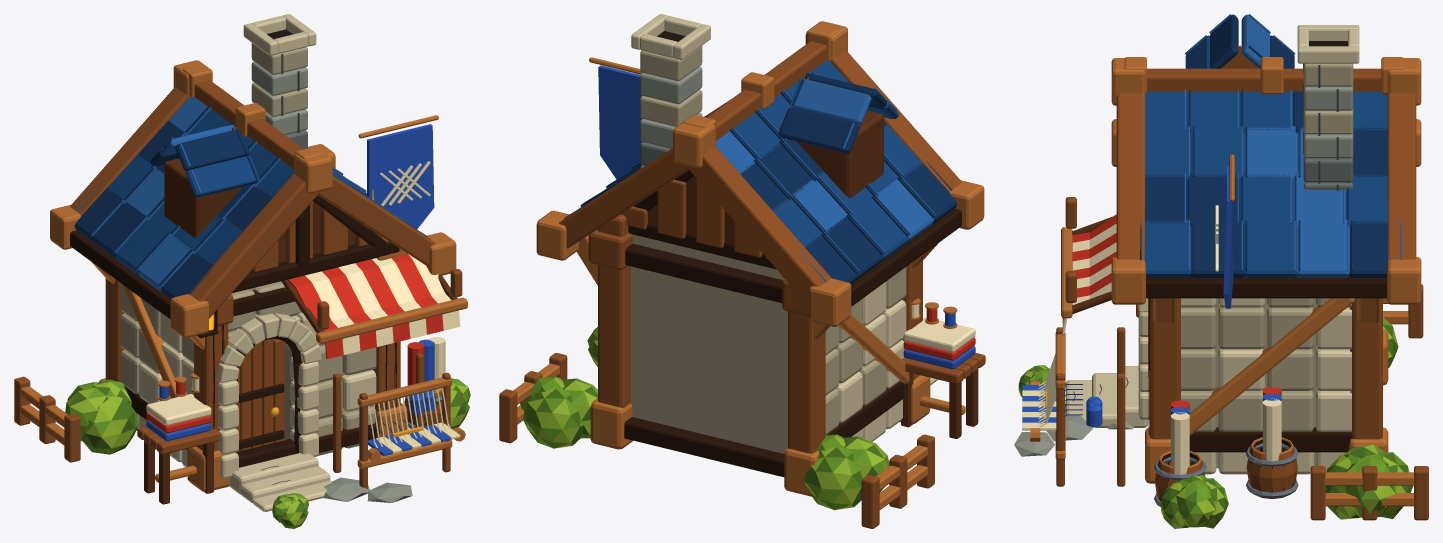
The model's file is weaver.glb.
The picture shows the model from 3 angles, left to right: view 1: azimuth 30°, elevation 25°; view 2: azimuth 150°, elevation 25°; view 3: azimuth 270°, elevation 25°; orthographic projection. The views are drawn at different scales.
Parts seen in each view (by area): view 1: Carved roof verge, Cloth heraldic banner, Carved roof verge.002, Dormer body, Carved roof verge.001, Gable tie beam, Ridge timber, Leaf cluster.004, Roof eave, Corner upright, Soft edged blue roof tile.042, Awning front beam (+85 smaller); view 2: Cottage walls, Carved roof verge.001, Corner upright.003, Corner upright.001, Cloth heraldic banner, Wall cross beam.001, Carved roof verge.003, Wall cross beam.003, Dormer body, Ridge timber, Leaf cluster.007, Leaf cluster.011 (+65 smaller); view 3: Carved roof verge.002, Carved roof verge.003, Roof eave.001, Ridge timber, Corner upright.003, Side wall diagonal.001, Corner upright.002, Soft edged blue roof tile.038, Soft edged blue roof tile.039, Side wall lower tie.001, Soft edged blue roof tile.036, Soft edged blue roof tile.028 (+72 smaller).
Part boxes in pixels (x1,y1,x2,y2): Carved roof verge: (188,173,319,318); Cloth heraldic banner: (367,124,434,229); Carved roof verge.002: (318,175,435,266); Dormer body: (164,158,242,237); Carved roof verge.001: (70,87,188,215); Gable tie beam: (232,242,399,292); Ridge timber: (194,80,303,169); Leaf cluster.004: (82,396,138,454); Roof eave: (70,230,170,319); Corner upright: (194,324,228,451); Soft edged blue roof tile.042: (185,155,260,197); Awning front beam: (316,297,467,343); Cottage walls: (631,234,787,453); Carved roof verge.001: (687,145,831,305); Corner upright.003: (598,214,630,407); Corner upright.001: (788,311,825,453); Cloth heraldic banner: (598,65,642,179); Wall cross beam.001: (624,417,784,477); Carved roof verge.003: (559,148,688,248); Wall cross beam.003: (625,243,782,302); Dormer body: (797,110,883,197); Ridge timber: (679,41,827,153); Leaf cluster.007: (803,447,862,509); Leaf cluster.011: (523,388,583,448); Carved roof verge.002: (1116,93,1145,260); Carved roof verge.003: (1387,93,1416,260); Roof eave.001: (1146,277,1386,298); Ridge timber: (1147,68,1381,93); Corner upright.003: (1352,298,1382,439); Side wall diagonal.001: (1189,298,1354,435); Corner upright.002: (1150,298,1180,439); Soft edged blue roof tile.038: (1244,219,1296,277); Soft edged blue roof tile.039: (1297,219,1349,277); Side wall lower tie.001: (1189,427,1352,452); Soft edged blue roof tile.036: (1144,219,1191,277); Soft edged blue roof tile.028: (1244,125,1296,179).
Bounding box in the file's own units: 4.09 × 4.2 × 3.61.
